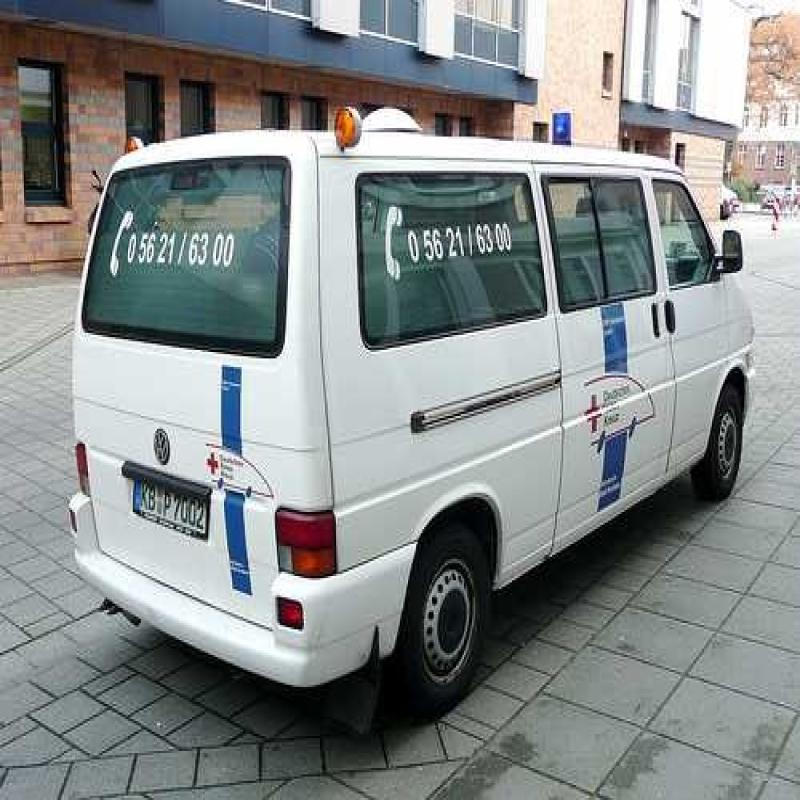AmbulanceSiren: (540, 105, 587, 152)
ambulance: (79, 111, 762, 688)
